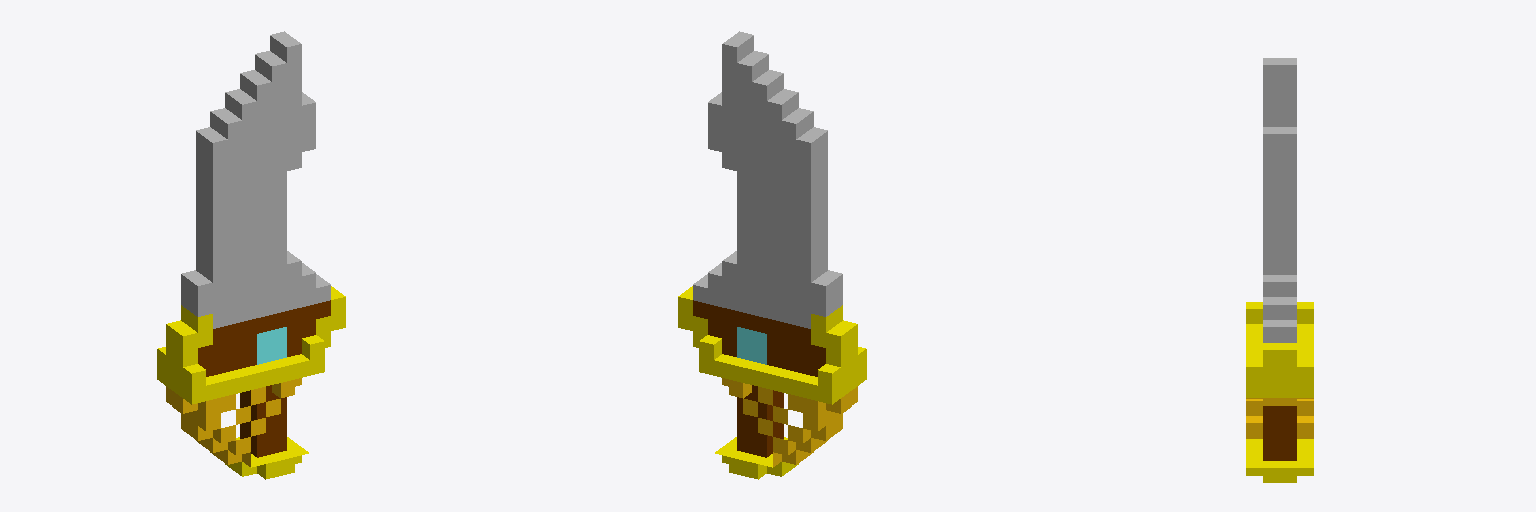
3 renders of one model, left to right at view 1: azimuth 30°, elevation 25°; view 2: azimuth 150°, elevation 25°; view 3: azimuth 270°, elevation 25°, orthographic.
Visible parts, largest first — view 1: cube; view 2: cube; view 3: cube.
Boxes of the visible parts, <box> form: cube: <box>157,31,345,479</box>; cube: <box>678,31,866,479</box>; cube: <box>1246,58,1313,482</box>.
Bounding box in the file's own units: 11 × 27 × 4.
1 materials, 1 textured.